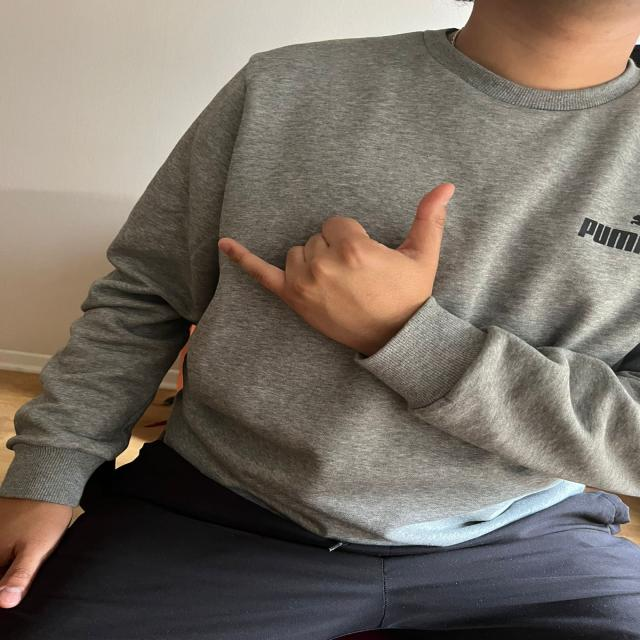Y: (219, 168, 460, 349)
